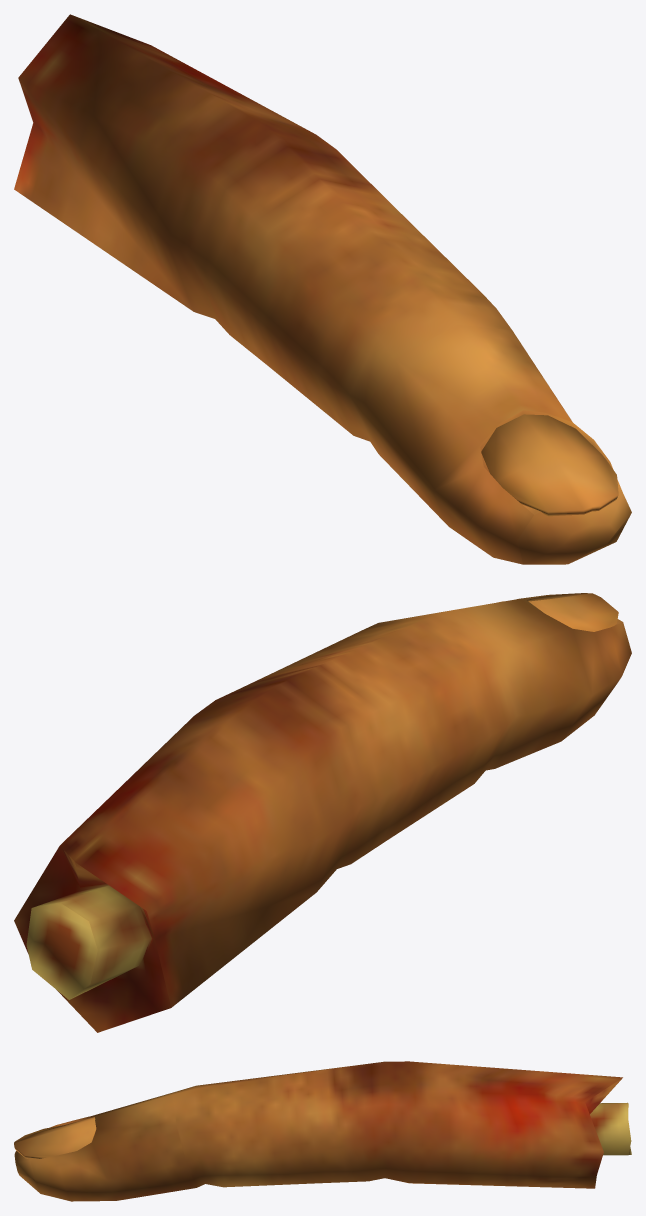
File: finger_fried.fbx
The picture shows the model from 3 angles, top to bottom: view 1: azimuth 30°, elevation 25°; view 2: azimuth 150°, elevation 25°; view 3: azimuth 270°, elevation 25°; orthographic projection. The views are drawn at different scales.
Parts seen in each view (by area): view 1: finger_fried; view 2: finger_fried; view 3: finger_fried.
Part boxes in pixels (box(x1,y1,x2,y2)): finger_fried: box(14, 14, 631, 564); finger_fried: box(14, 593, 631, 1032); finger_fried: box(14, 1061, 631, 1201).
Bounding box in the file's own units: 3.07 × 3.9 × 16.17.
